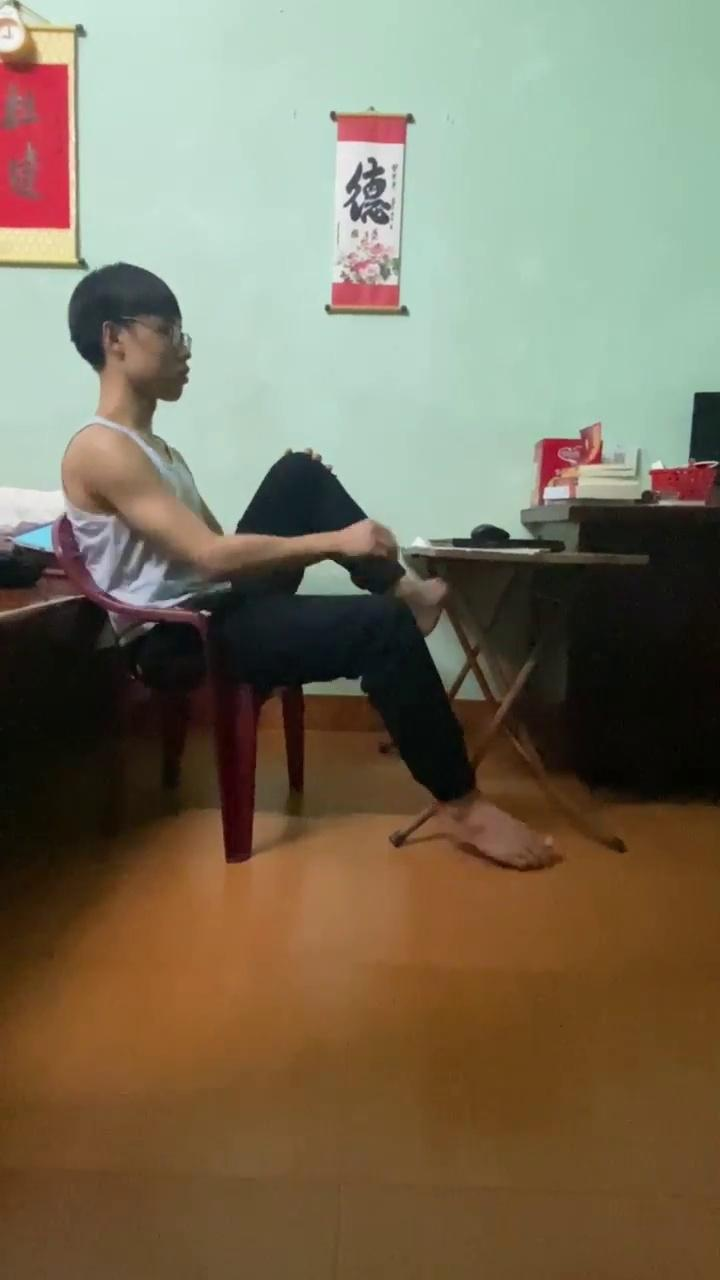BadPosture: (215, 450, 556, 869)
